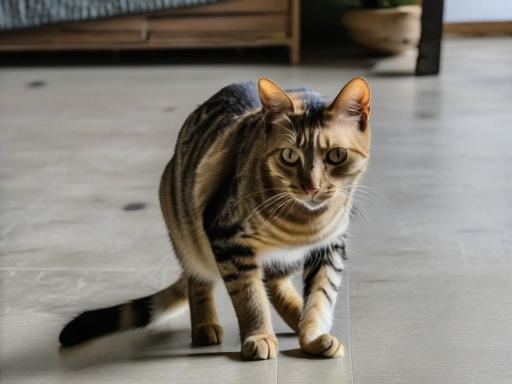cat_standing: (60, 78, 370, 359)
